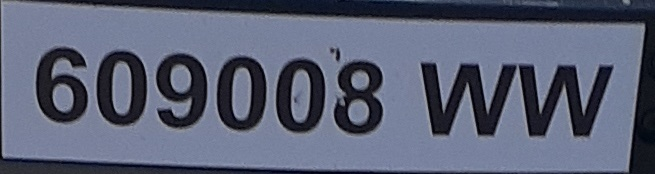0: (212, 49, 271, 134), (93, 44, 149, 132), (272, 53, 328, 134)
6: (35, 43, 93, 129)
8: (330, 52, 395, 137)
9: (151, 49, 211, 132)
w: (418, 55, 519, 148), (519, 57, 617, 145)
